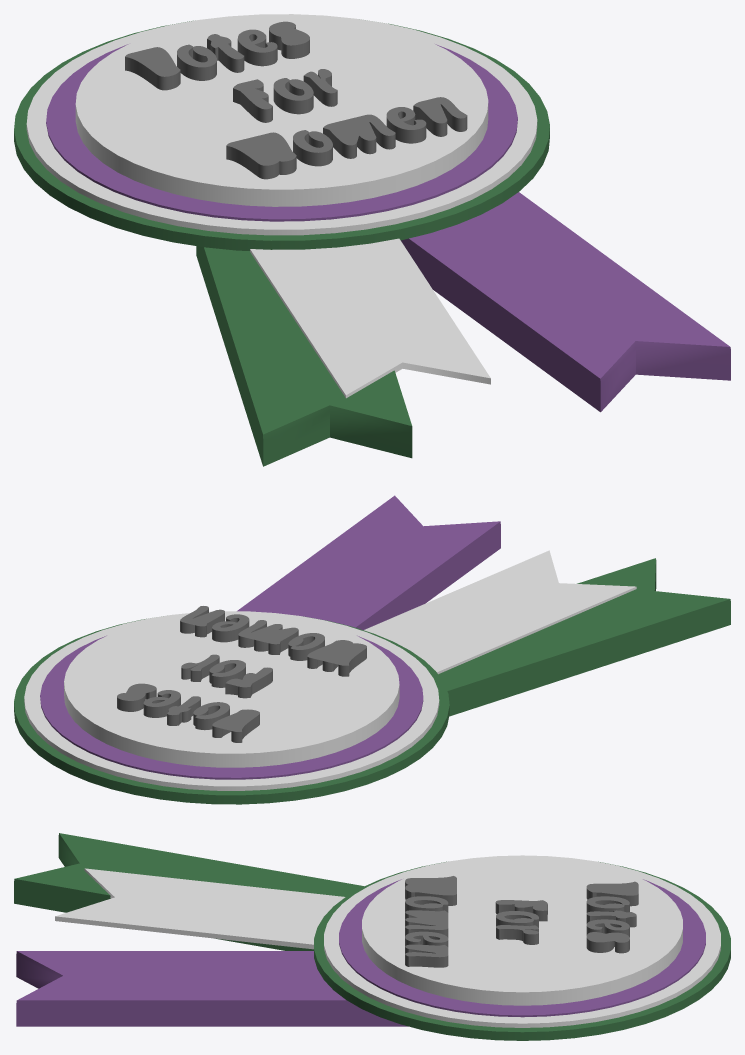
The model's file is Badge1.fbx.
3 renders of one model, top to bottom at view 1: azimuth 30°, elevation 25°; view 2: azimuth 150°, elevation 25°; view 3: azimuth 270°, elevation 25°, orthographic. The views are drawn at different scales.
Parts seen in each view (by area): view 1: pCube4; view 2: pCube4; view 3: pCube4.
Part boxes in pixels (x1,y1,x2,y2): pCube4: (14, 14, 730, 466); pCube4: (14, 495, 730, 804); pCube4: (14, 833, 730, 1040).
Size of the model in its own units: 20.64 by 3.02 by 29.97.
